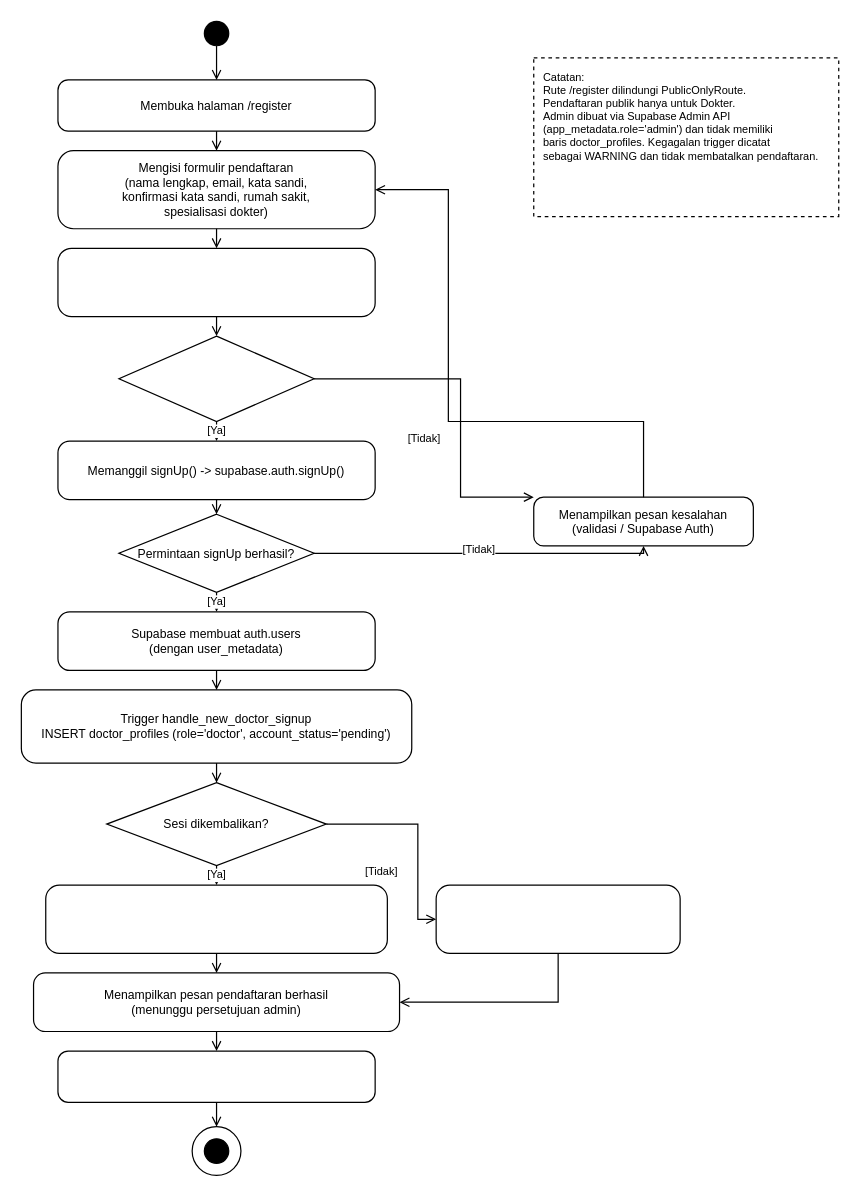
The diagram is 860 pixels wide and 1197 high, and some of its shapes have lost their labels. Here are the shapes that lost their labels. From the top down, the box of each, then its label:
(57, 247, 375, 317): Memvalidasi input (wajib, format email, kata sandi >= 6, konfirmasi cocok)
(118, 335, 314, 422): Input valid?
(45, 884, 387, 953): Memperbarui state autentikasi role=doctor, account_status=pending
(435, 884, 680, 953): Menampilkan instruksi konfirmasi email
(57, 1050, 375, 1102): Mengakses halaman /login
